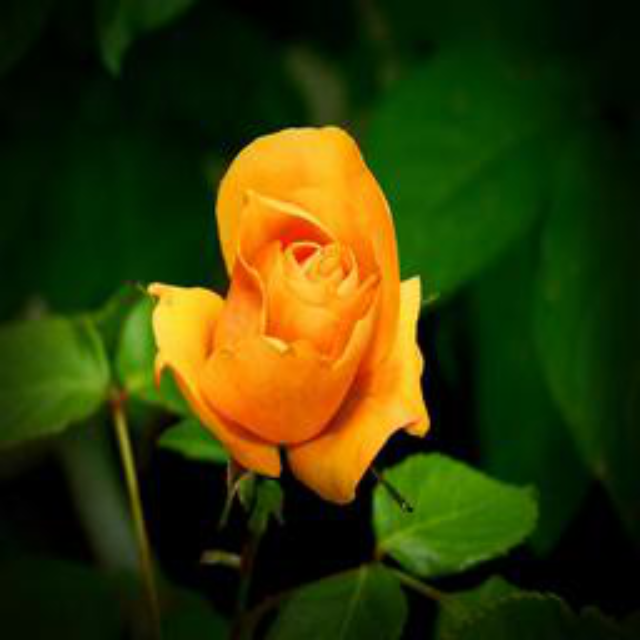rose: (146, 119, 433, 504)
